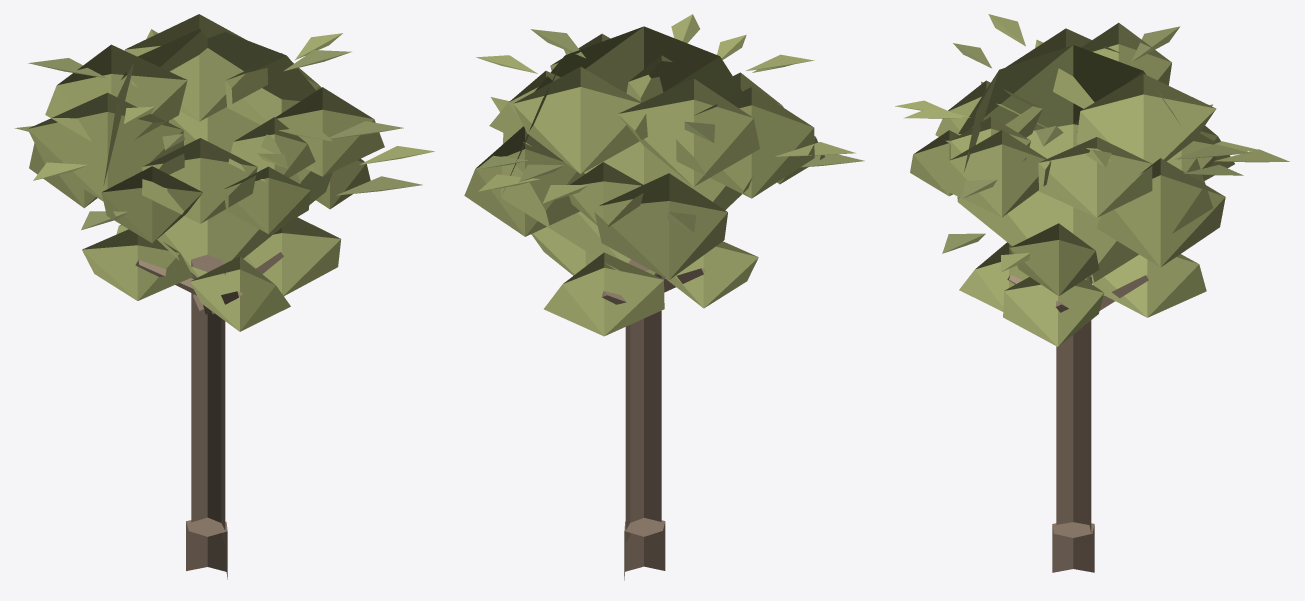
Rendered from shu.longnao__autumn.glb.
The picture shows the model from 3 angles, left to right: view 1: azimuth 30°, elevation 25°; view 2: azimuth 150°, elevation 25°; view 3: azimuth 270°, elevation 25°; orthographic projection. The views are drawn at different scales.
Parts seen in each view (by area): view 1: shu.longnao__autumn; view 2: shu.longnao__autumn; view 3: shu.longnao__autumn.
Boxes of the visible parts, box(x1,y1,x2,y2) form: shu.longnao__autumn: box(14, 14, 434, 579); shu.longnao__autumn: box(464, 14, 864, 580); shu.longnao__autumn: box(895, 14, 1289, 572).
Bounding box in the file's own units: 21.86 × 29.23 × 19.99.
